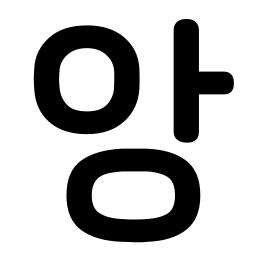Gaji: (162, 61, 216, 108)
